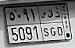0: (18, 13, 25, 41)
5: (8, 11, 18, 42)
D: (55, 11, 63, 36)
S: (40, 11, 49, 38)
